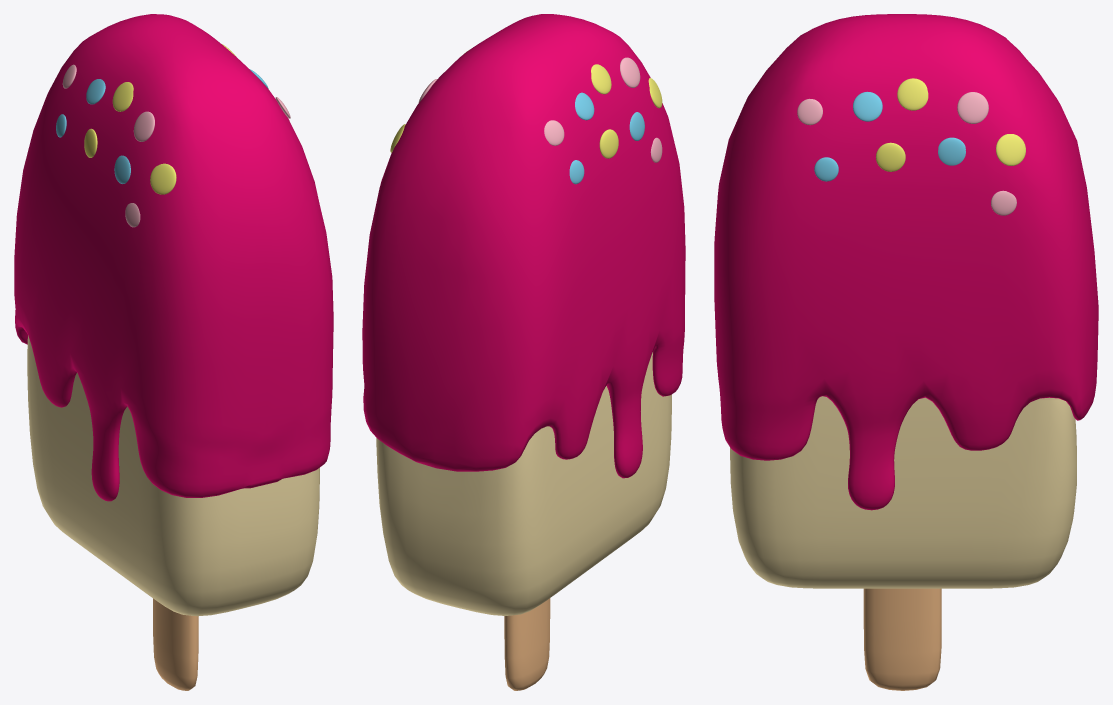
Rendered from Sunday.fbx.
3 renders of one model, left to right at view 1: azimuth 30°, elevation 25°; view 2: azimuth 150°, elevation 25°; view 3: azimuth 270°, elevation 25°, orthographic. The views are drawn at different scales.
Parts seen in each view (by area): view 1: Sunday; view 2: Sunday; view 3: Sunday.
Boxes of the visible parts, <box> form: Sunday: <box>14,14,333,690</box>; Sunday: <box>362,14,685,690</box>; Sunday: <box>714,14,1098,690</box>.
Size of the model in its own units: 513 by 1651 by 864.
Materials: 1 (1 with a texture image).
